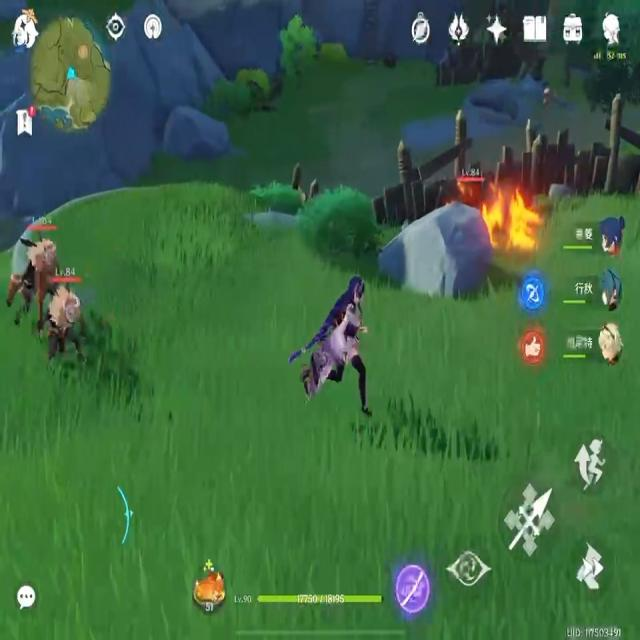genshin-hilichurls: (40, 267, 90, 362), (13, 212, 43, 300), (455, 171, 493, 227), (542, 83, 550, 107)
